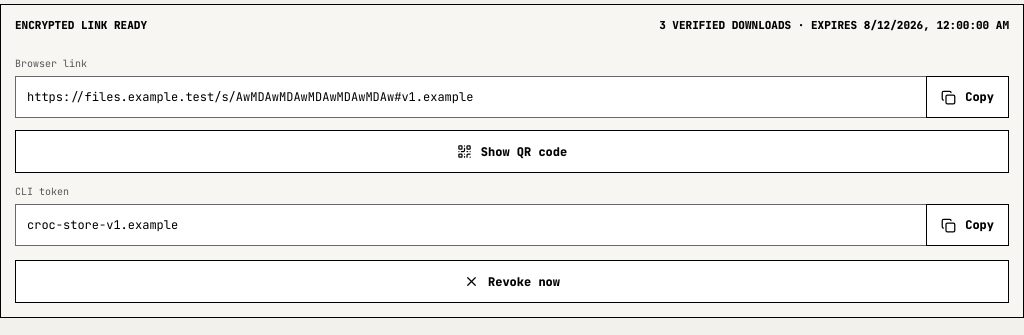
stored share copy feedback › marks only the copied value as copied
This screenshot has width=1024, height=335.
Click the 1st button "Copy" at (968, 97), box [926, 76, 1009, 118]
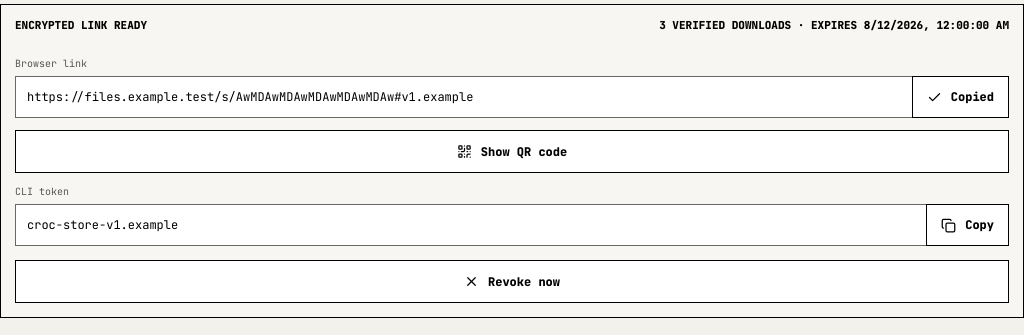
Check: the button "Copy" is shown, box [926, 204, 1009, 246]
Check: the button named "Copy" reads "Copied", box [912, 76, 1009, 118]
